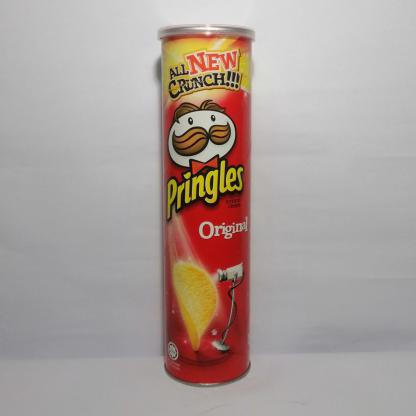potatochip: (156, 23, 256, 392)
